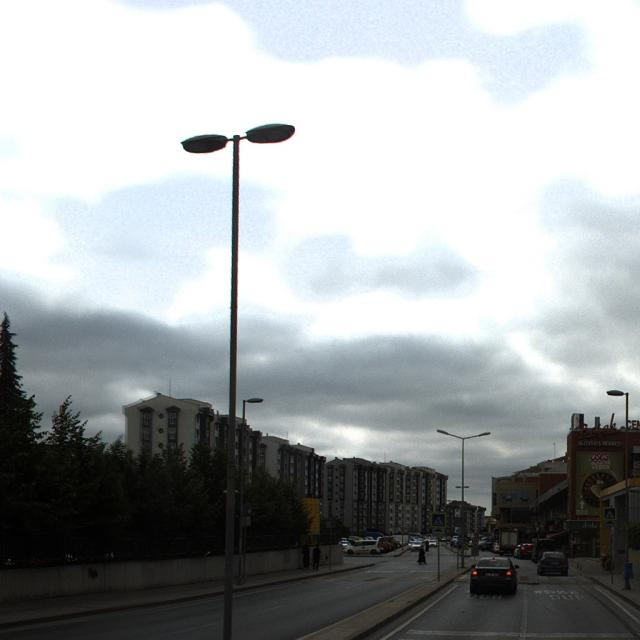SignStore: (570, 521, 600, 531)
